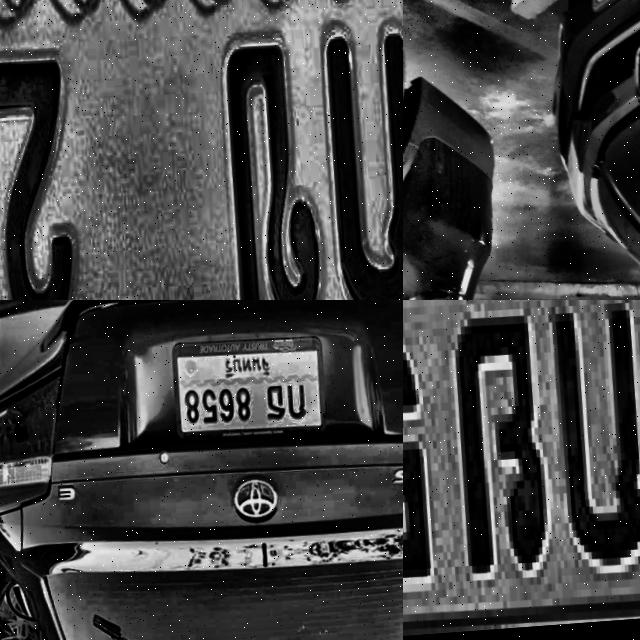license-plate: (0, 0, 403, 300), (403, 300, 640, 640), (162, 339, 321, 454)
